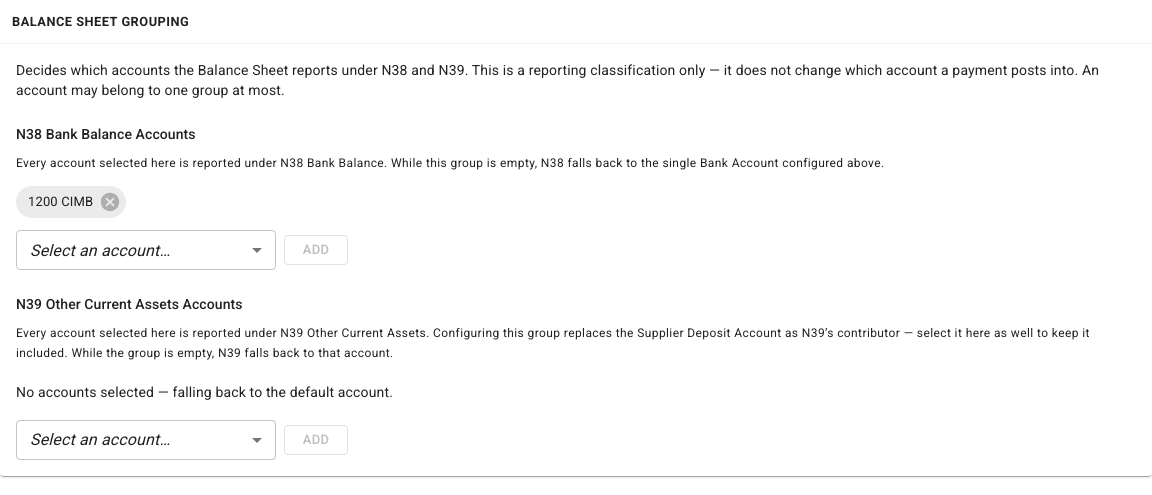
Test case: BalanceSheetGroupsSection — removals › removing the LAST member shows the fallback notice again
Click the icon with test id "bsg-remove-cimb" at (110, 202), box [99,191,121,213]
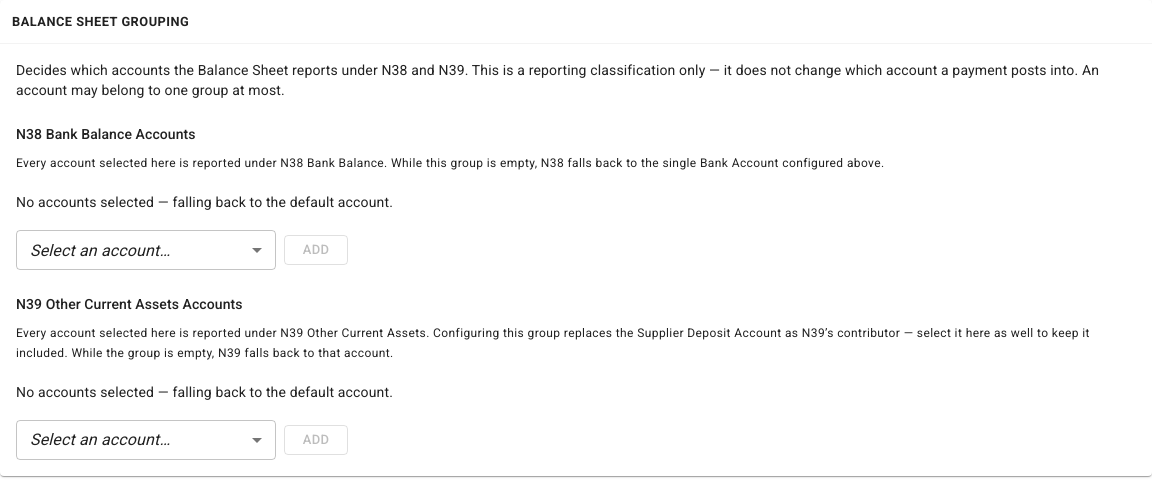
Now the text with test id "bsg-empty-N38" is shown, box [16,192,393,212]
